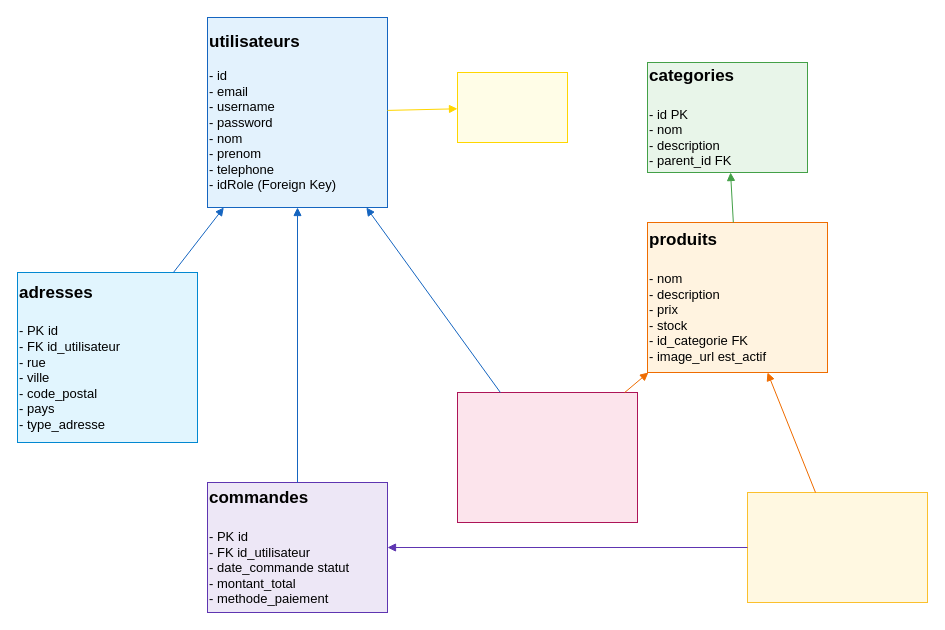
Image size: 945x630. Some labels were removed from this diagram. The shapes that lost their labels are listed below. From the top down, each one's centre as x and y in pixels, then its label:
point (512, 107): roles - id (Primary Key) - libelle
point (547, 457): panier - PK id - FK id_utilisateur - FK id_produit - quantite - date_ajout
point (837, 547): commande_produit PK id FK id_commande FK id_produit quantite prix_unitaire
